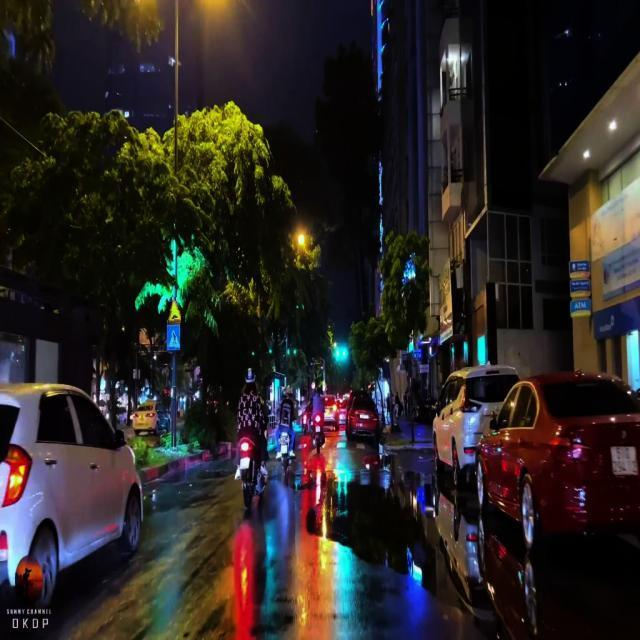221-duong-go-ghe: (167, 300, 181, 322)
224-duong-nguoi-di-bo-cat-ngang: (166, 324, 182, 350)
